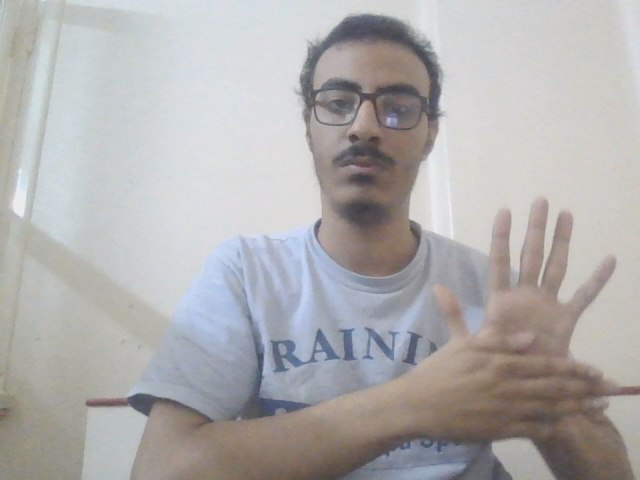Movie: (424, 194, 640, 451)
